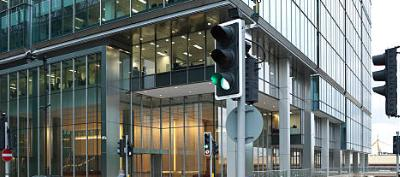green_light: (210, 19, 242, 100), (204, 132, 211, 150)
